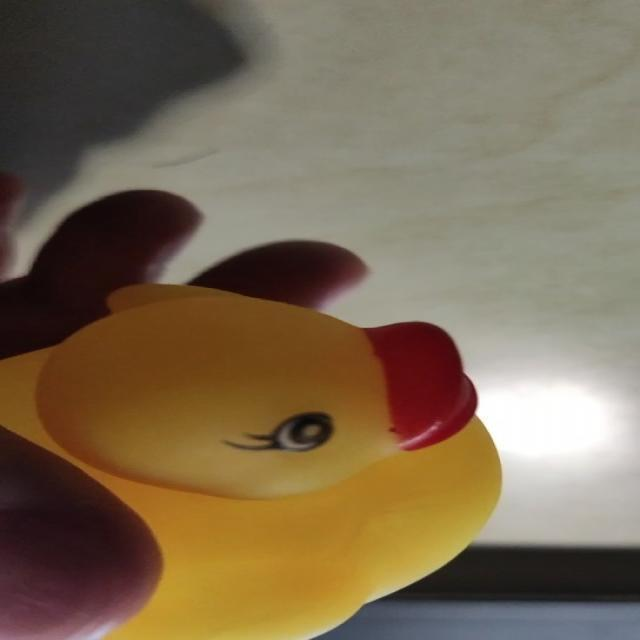rubber-duck: (0, 284, 499, 638)
